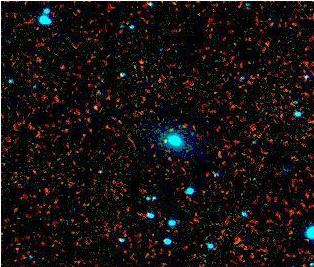star: (144, 126, 174, 156)
